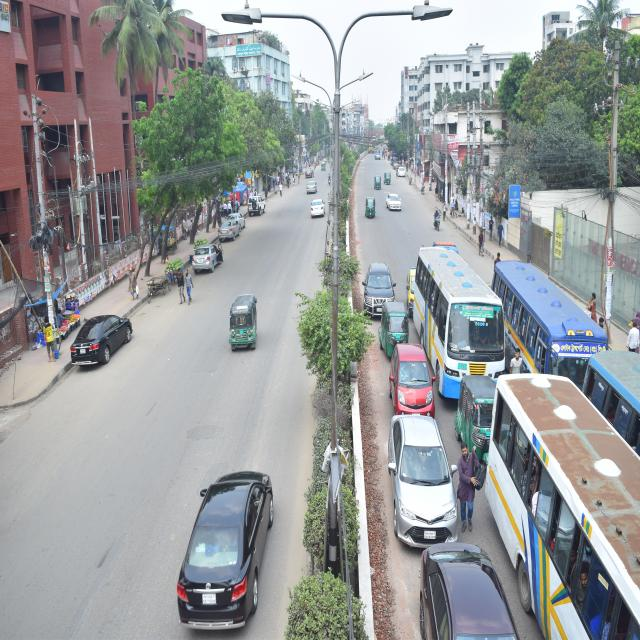bus: (469, 352, 640, 633), (482, 223, 606, 383), (413, 216, 514, 401), (574, 315, 640, 486)
car: (167, 429, 282, 640), (398, 509, 533, 640), (389, 392, 461, 559), (61, 300, 160, 386), (382, 332, 439, 424), (357, 245, 394, 338), (177, 228, 224, 282), (212, 205, 241, 262), (241, 183, 276, 230), (223, 198, 251, 245), (302, 191, 331, 235), (382, 186, 398, 224), (308, 179, 326, 212), (396, 158, 411, 185), (304, 163, 319, 189), (372, 148, 385, 166), (392, 154, 402, 172)
motorbike: (426, 202, 449, 239), (420, 178, 427, 201), (327, 171, 333, 197)
pickup-van: (428, 216, 470, 270), (400, 244, 429, 321)
